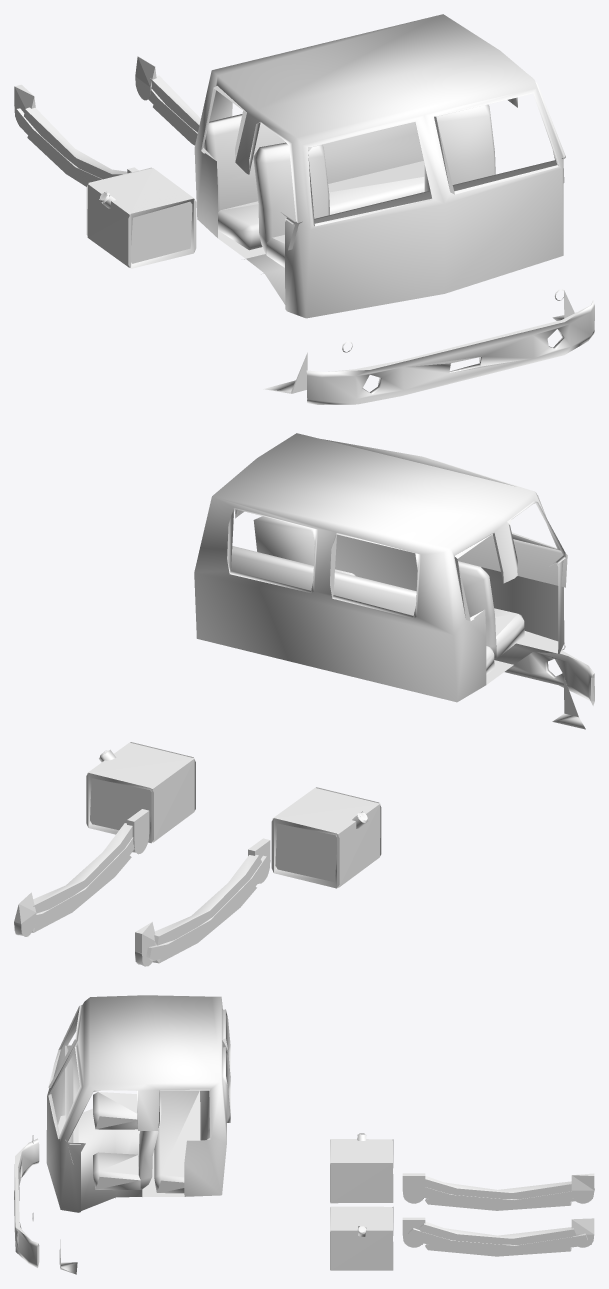
3 renders of one model, top to bottom at view 1: azimuth 30°, elevation 25°; view 2: azimuth 150°, elevation 25°; view 3: azimuth 270°, elevation 25°, orthographic. The views are drawn at different scales.
Bounding box in the file's own units: 3.02 × 2.32 × 6.3.
Materials: 1 (1 with a texture image).
